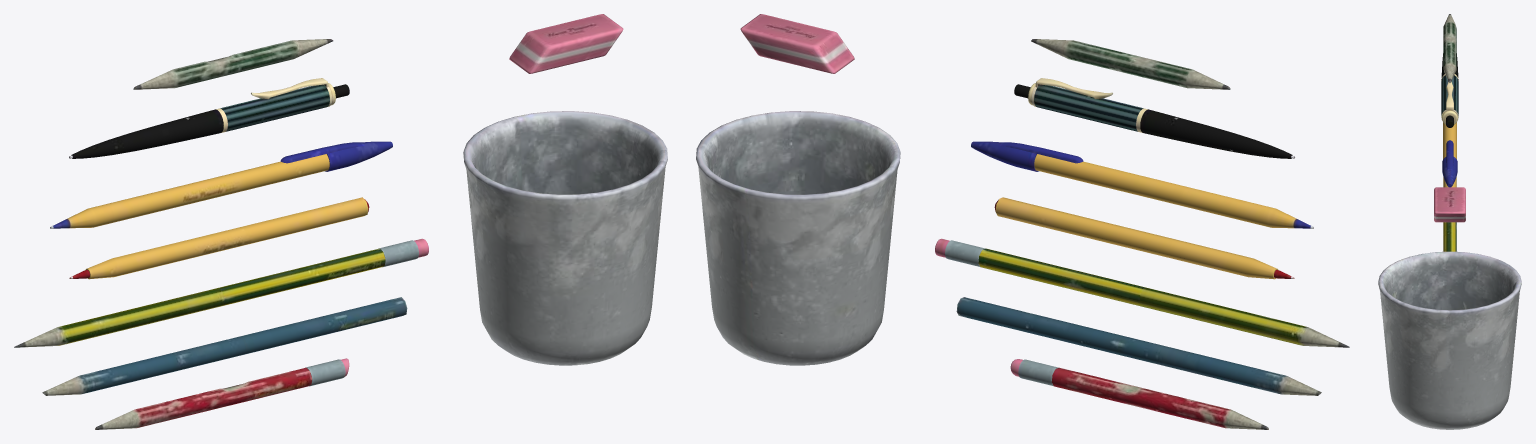
The model's file is stationery_supplies.glb.
The picture shows the model from 3 angles, left to right: view 1: azimuth 30°, elevation 25°; view 2: azimuth 150°, elevation 25°; view 3: azimuth 270°, elevation 25°; orthographic projection. The views are drawn at different scales.
Visible parts, largest first — view 1: stationery_supplies_pencilcup, stationery_supplies_pencil_new_a, stationery_supplies_pencil_new_b, stationery_supplies_pen_blue, stationery_supplies_pen_fancy, stationery_supplies_pen_red, stationery_supplies_pencil_used, stationery_supplies_eraser, stationery_supplies_pencil_old; view 2: stationery_supplies_pencilcup, stationery_supplies_pencil_new_a, stationery_supplies_pencil_new_b, stationery_supplies_pen_blue, stationery_supplies_pen_fancy, stationery_supplies_pen_red, stationery_supplies_pencil_used, stationery_supplies_eraser, stationery_supplies_pencil_old; view 3: stationery_supplies_pencilcup, stationery_supplies_eraser, stationery_supplies_pen_fancy, stationery_supplies_pen_blue, stationery_supplies_pencil_old, stationery_supplies_pencil_new_a.
Boxes of the visible parts, box(x1,y1,x2,y2) form: stationery_supplies_pencilcup: box(463, 111, 667, 365); stationery_supplies_pencil_new_a: box(14, 238, 428, 347); stationery_supplies_pencil_new_b: box(42, 297, 407, 395); stationery_supplies_pen_blue: box(50, 141, 392, 228); stationery_supplies_pen_fancy: box(69, 78, 349, 158); stationery_supplies_pen_red: box(69, 197, 369, 279); stationery_supplies_pencil_used: box(95, 358, 349, 429); stationery_supplies_eraser: box(509, 14, 623, 73); stationery_supplies_pencil_old: box(133, 39, 333, 89); stationery_supplies_pencilcup: box(696, 111, 900, 365); stationery_supplies_pencil_new_a: box(935, 238, 1349, 347); stationery_supplies_pencil_new_b: box(956, 297, 1321, 395); stationery_supplies_pen_blue: box(971, 141, 1313, 228); stationery_supplies_pen_fancy: box(1014, 78, 1294, 158); stationery_supplies_pen_red: box(994, 197, 1294, 279); stationery_supplies_pencil_used: box(1010, 359, 1268, 429); stationery_supplies_eraser: box(740, 14, 854, 73); stationery_supplies_pencil_old: box(1031, 39, 1230, 89); stationery_supplies_pencilcup: box(1378, 251, 1521, 429); stationery_supplies_eraser: box(1434, 187, 1465, 222); stationery_supplies_pen_fancy: box(1441, 53, 1458, 127); stationery_supplies_pen_blue: box(1442, 122, 1457, 187); stationery_supplies_pencil_old: box(1443, 14, 1456, 82); stationery_supplies_pencil_new_a: box(1443, 222, 1456, 251).
Size of the model in its own units: 0.3019 by 0.1643 by 0.0837.
Materials: 1 (1 with a texture image).
